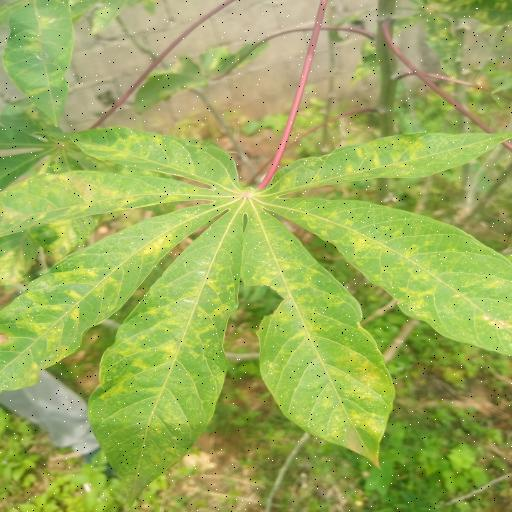Cassava_Mosaic: (5, 122, 512, 498)
